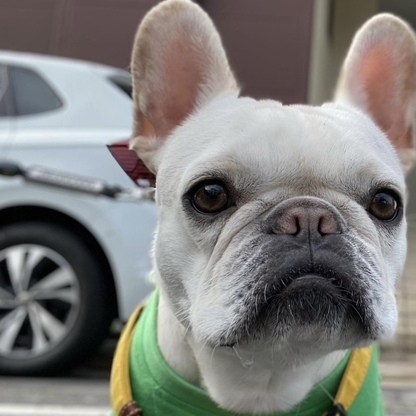bulldog: (112, 4, 416, 394)
